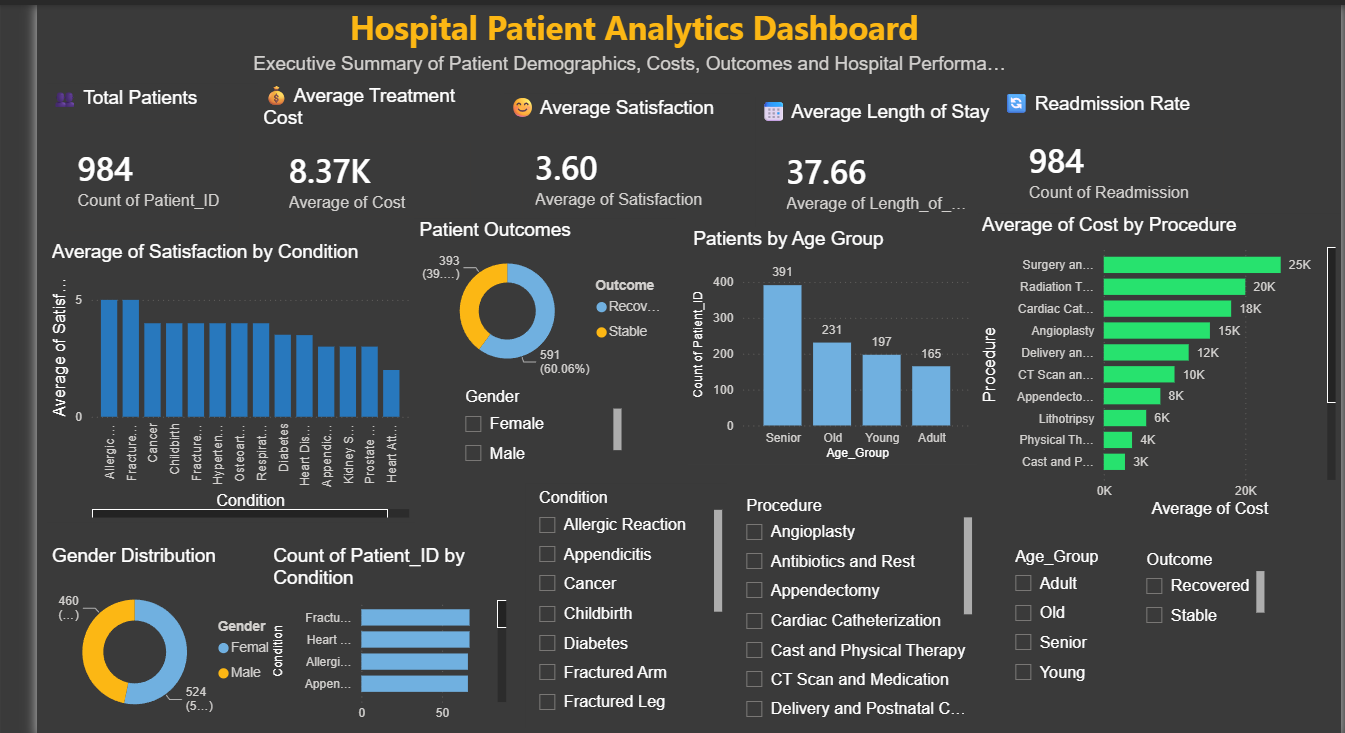

The page's visual inventory and layout, read from the dashboard file:
{"tool":"powerbi","page":{"name":"Page 1","canvas":[1280,720],"ordinal":0},"visuals":[{"type":"textbox","box":[10,290,280,280],"z":0},{"type":"textbox","box":[10,570,280,150],"z":1000},{"type":"textbox","title":"Hospital Patient Analytics Dashboard","box":[207.2,0,757.5,118],"z":2000},{"type":"textbox","box":[300,290,280,280],"z":3000},{"type":"textbox","box":[300,570,280,150],"z":4000},{"type":"cardVisual","title":"👥 Total Patients","fields":{"Data":["CountNonNull(cleaned_data.Patient_ID)"]},"box":[9.6,76.8,207.2,161.9],"z":5000},{"type":"cardVisual","title":"💰 Average Treatment Cost","fields":{"Data":["Avg(cleaned_data.Cost)"]},"box":[217.2,74.8,227,150.9],"z":6000},{"type":"cardVisual","title":"📅 Average Length of Stay","fields":{"Data":["Avg(cleaned_data.Length_of_Stay)"]},"box":[705.5,90.8,238,141.1],"z":7000},{"type":"cardVisual","title":"😊 Average Satisfaction","fields":{"Data":["Avg(cleaned_data.Satisfaction)"]},"box":[458.9,87.1,240.5,141.1],"z":8000},{"type":"cardVisual","title":"🔄 Readmission Rate","fields":{"Data":["CountNonNull(cleaned_data.Readmission)"]},"box":[943.6,83.4,239.3,135],"z":9000},{"type":"clusteredColumnChart","title":"Patients by Age Group","fields":{"Category":["cleaned_data.Age_Group"],"Y":["CountNonNull(cleaned_data.Patient_ID)"]},"box":[639.3,218.4,283.4,233.1],"z":10000},{"type":"donutChart","title":"Gender Distribution","fields":{"Category":["cleaned_data.Gender"],"Y":["CountNonNull(cleaned_data.Patient_ID)"]},"box":[9.3,530.2,239.5,189.5],"z":11000},{"type":"clusteredBarChart","fields":{"Category":["cleaned_data.Procedure"],"Y":["Avg(cleaned_data.Cost)"]},"box":[922.7,204.9,357.1,303.1],"z":12000},{"type":"clusteredBarChart","fields":{"Category":["cleaned_data.Condition"],"Y":["CountNonNull(cleaned_data.Patient_ID)"]},"box":[226.7,530.2,238.4,181.4],"z":13000},{"type":"donutChart","title":"Patient Outcomes","fields":{"Category":["cleaned_data.Outcome"],"Y":["CountNonNull(cleaned_data.Patient_ID)"]},"box":[370.6,209.8,256.4,160.7],"z":14000},{"type":"clusteredColumnChart","fields":{"Category":["cleaned_data.Condition"],"Y":["Avg(cleaned_data.Satisfaction)"]},"box":[9.8,231.9,360.7,276.1],"z":15000},{"type":"slicer","fields":{"Values":["cleaned_data.Gender"]},"box":[407.4,370.6,171.8,83.4],"z":16000},{"type":"slicer","fields":{"Values":["cleaned_data.Age_Group"]},"box":[947.2,527.6,116.6,150.9],"z":17000},{"type":"slicer","fields":{"Values":["cleaned_data.Condition"]},"box":[479.8,469.9,197.5,239.3],"z":18000},{"type":"slicer","fields":{"Values":["cleaned_data.Procedure"]},"box":[683.4,477.3,239.3,234.4],"z":19000},{"type":"slicer","fields":{"Values":["cleaned_data.Outcome"]},"box":[1076.1,530.1,133.7,83.4],"z":20000}]}

Visuals, with their boxes on the page's 1280x720 design canvas (x1, y1, x2, y2). These are canvas units, not pixel positions in the 1345x733 screenshot, which may show the page scaled, cropped or inside an application window:
textbox: [10,290,290,570]
textbox: [10,570,290,720]
"Hospital Patient Analytics Dashboard" textbox: [207,0,965,118]
textbox: [300,290,580,570]
textbox: [300,570,580,720]
"👥 Total Patients" cardVisual: [10,77,217,239]
"💰 Average Treatment Cost" cardVisual: [217,75,444,226]
"📅 Average Length of Stay" cardVisual: [706,91,944,232]
"😊 Average Satisfaction" cardVisual: [459,87,699,228]
"🔄 Readmission Rate" cardVisual: [944,83,1183,218]
"Patients by Age Group" clusteredColumnChart: [639,218,923,452]
"Gender Distribution" donutChart: [9,530,249,720]
clusteredBarChart - cleaned_data.Procedure x Avg(cleaned_data.Cost): [923,205,1280,508]
clusteredBarChart - cleaned_data.Condition x CountNonNull(cleaned_data.Patient_ID): [227,530,465,712]
"Patient Outcomes" donutChart: [371,210,627,370]
clusteredColumnChart - cleaned_data.Condition x Avg(cleaned_data.Satisfaction): [10,232,370,508]
slicer - cleaned_data.Gender: [407,371,579,454]
slicer - cleaned_data.Age_Group: [947,528,1064,678]
slicer - cleaned_data.Condition: [480,470,677,709]
slicer - cleaned_data.Procedure: [683,477,923,712]
slicer - cleaned_data.Outcome: [1076,530,1210,614]
